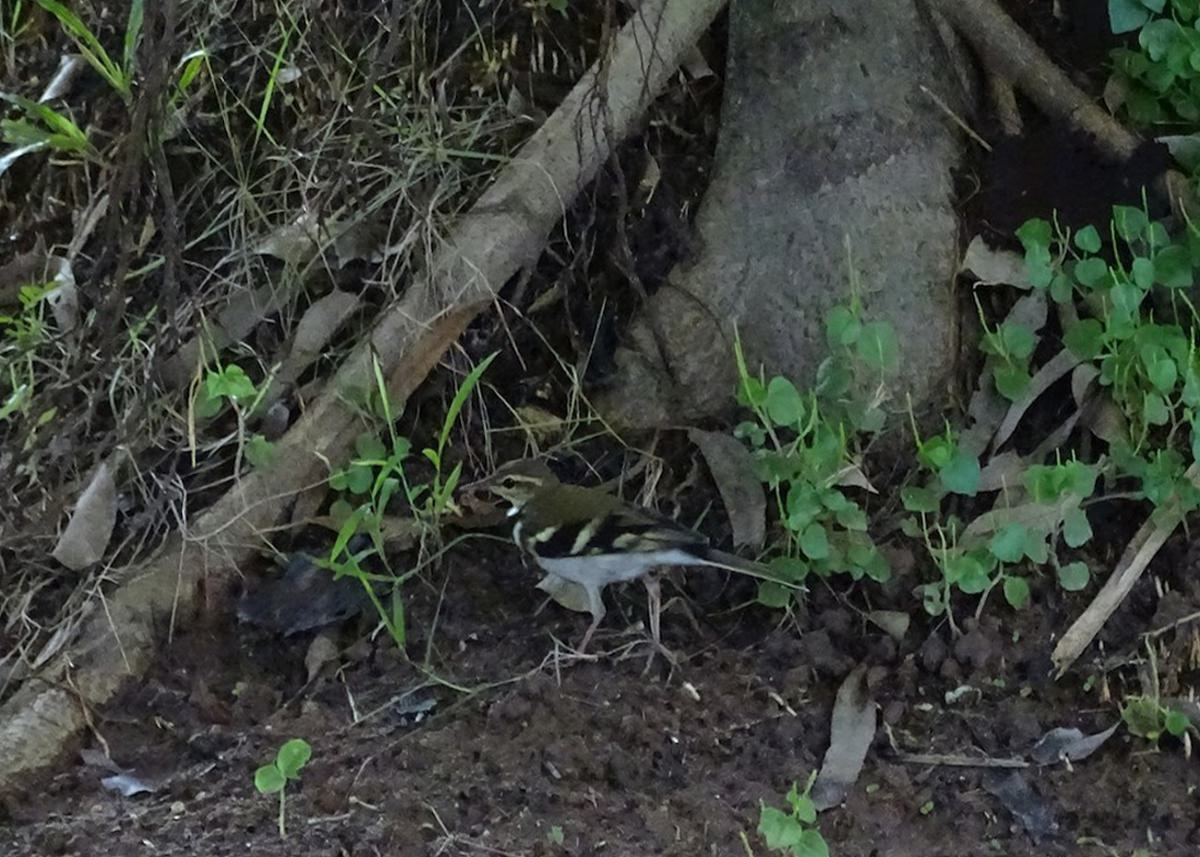wagtail: (461, 448, 788, 666)
